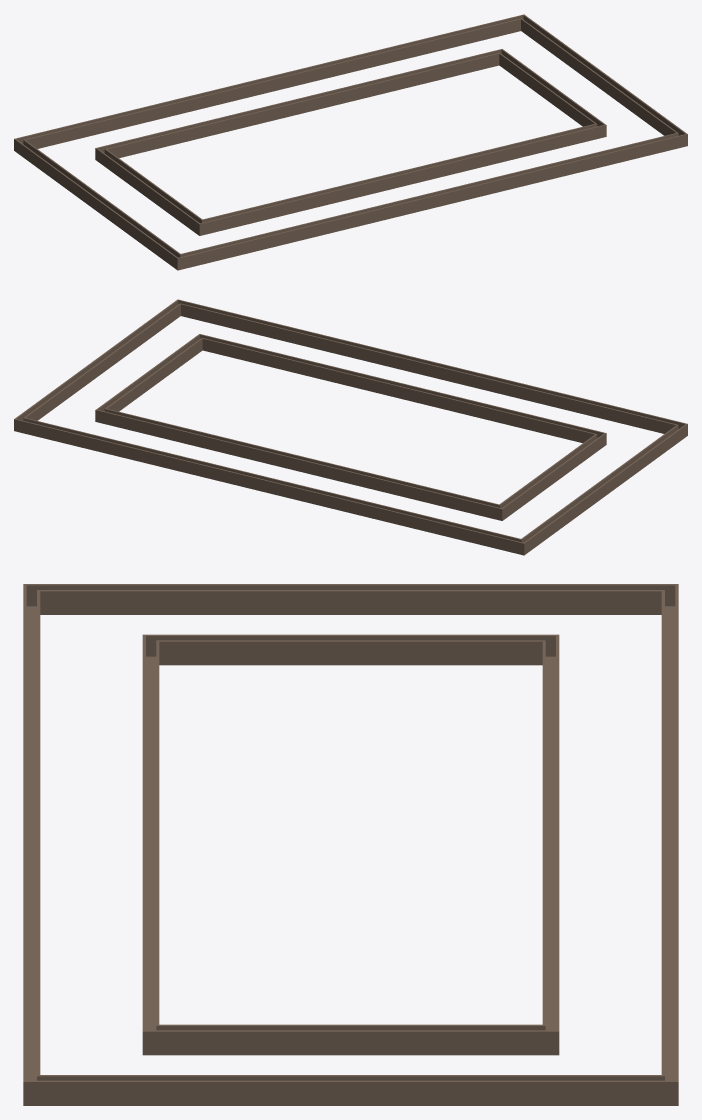
Rendered from trench.glb.
3 renders of one model, top to bottom at view 1: azimuth 30°, elevation 25°; view 2: azimuth 150°, elevation 25°; view 3: azimuth 270°, elevation 25°, orthographic. The views are drawn at different scales.
Visible parts, largest first — view 1: 3DGeom-1, 3DGeom-2; view 2: 3DGeom-1, 3DGeom-2; view 3: 3DGeom-1, 3DGeom-2.
Boxes of the visible parts, <box> form: 3DGeom-1: <box>14,14,687,270</box>; 3DGeom-2: <box>95,49,606,235</box>; 3DGeom-1: <box>14,299,687,555</box>; 3DGeom-2: <box>95,334,606,520</box>; 3DGeom-1: <box>23,584,678,1105</box>; 3DGeom-2: <box>142,634,559,1055</box>.
Size of the model in its own units: 113 by 2.5 by 62.6.
